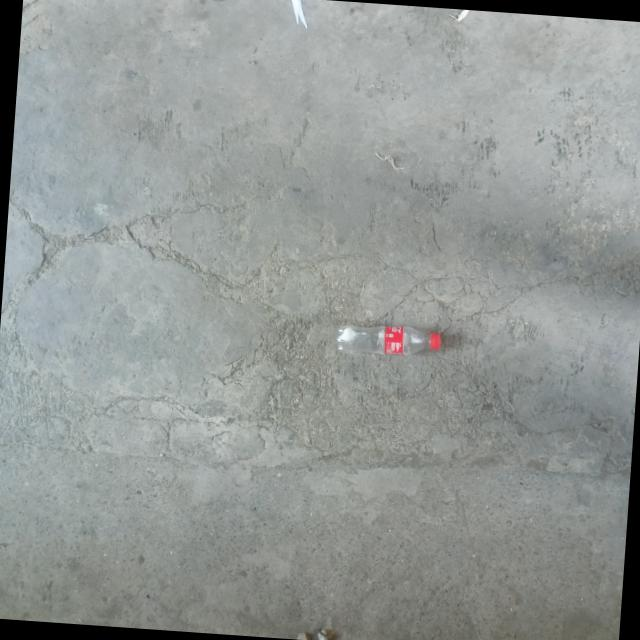Bottle: (336, 325, 439, 355)
